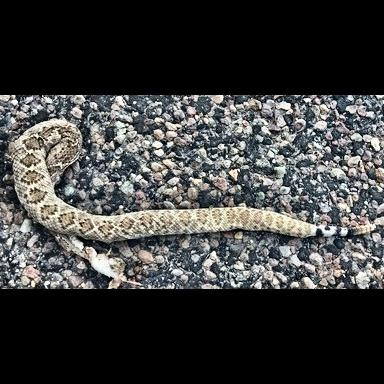snake: (4, 108, 380, 257)
